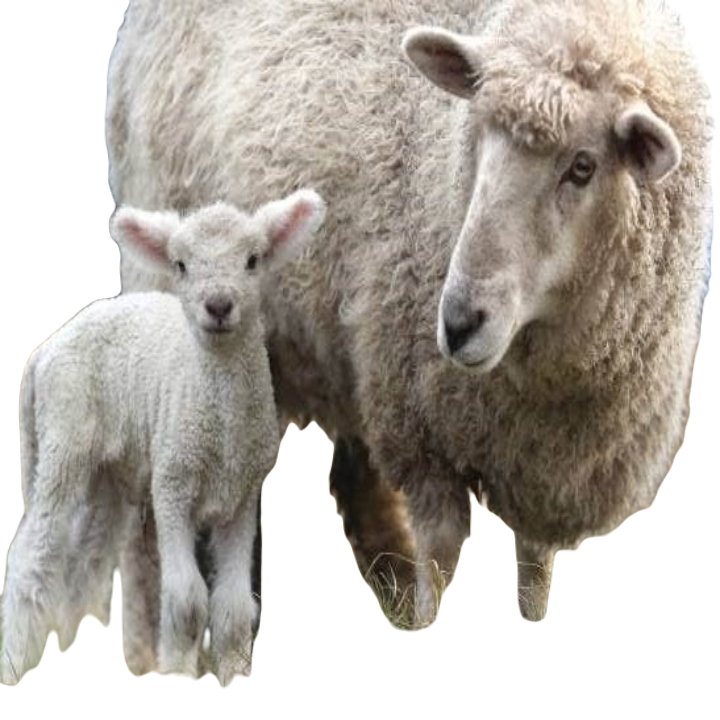Sheep: (324, 0, 719, 638), (0, 176, 320, 692)
